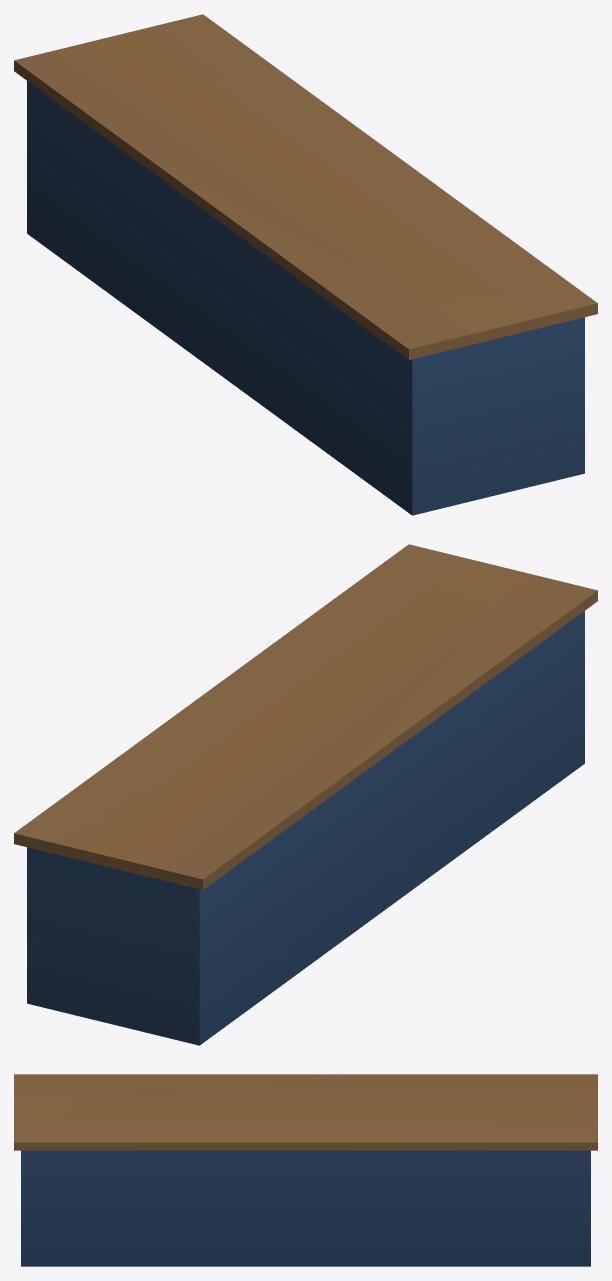
Rendered from stall.counter.blue_cloth.glb.
3 views of the same model, one above another, from view 1: azimuth 30°, elevation 25°; view 2: azimuth 150°, elevation 25°; view 3: azimuth 270°, elevation 25° (orthographic). The views are drawn at different scales.
Visible parts, largest first — view 1: stall_counter_blue_cloth; view 2: stall_counter_blue_cloth; view 3: stall_counter_blue_cloth.
Boxes of the visible parts, x1,y1,x2,y2 form: stall_counter_blue_cloth: (14,14,597,515); stall_counter_blue_cloth: (14,544,597,1045); stall_counter_blue_cloth: (14,1074,597,1266).
Size of what is drawn, in the model's own units: 0.922 by 0.8 by 3.34.
